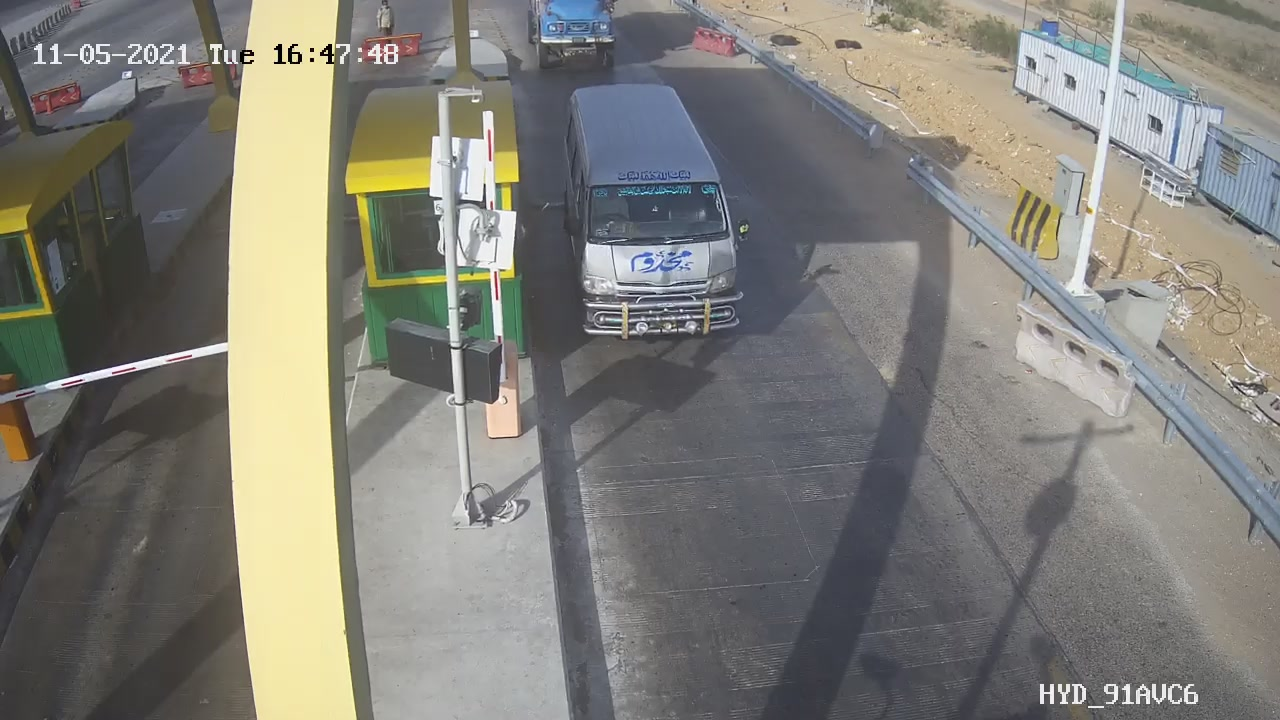F2: (540, 72, 773, 352)
